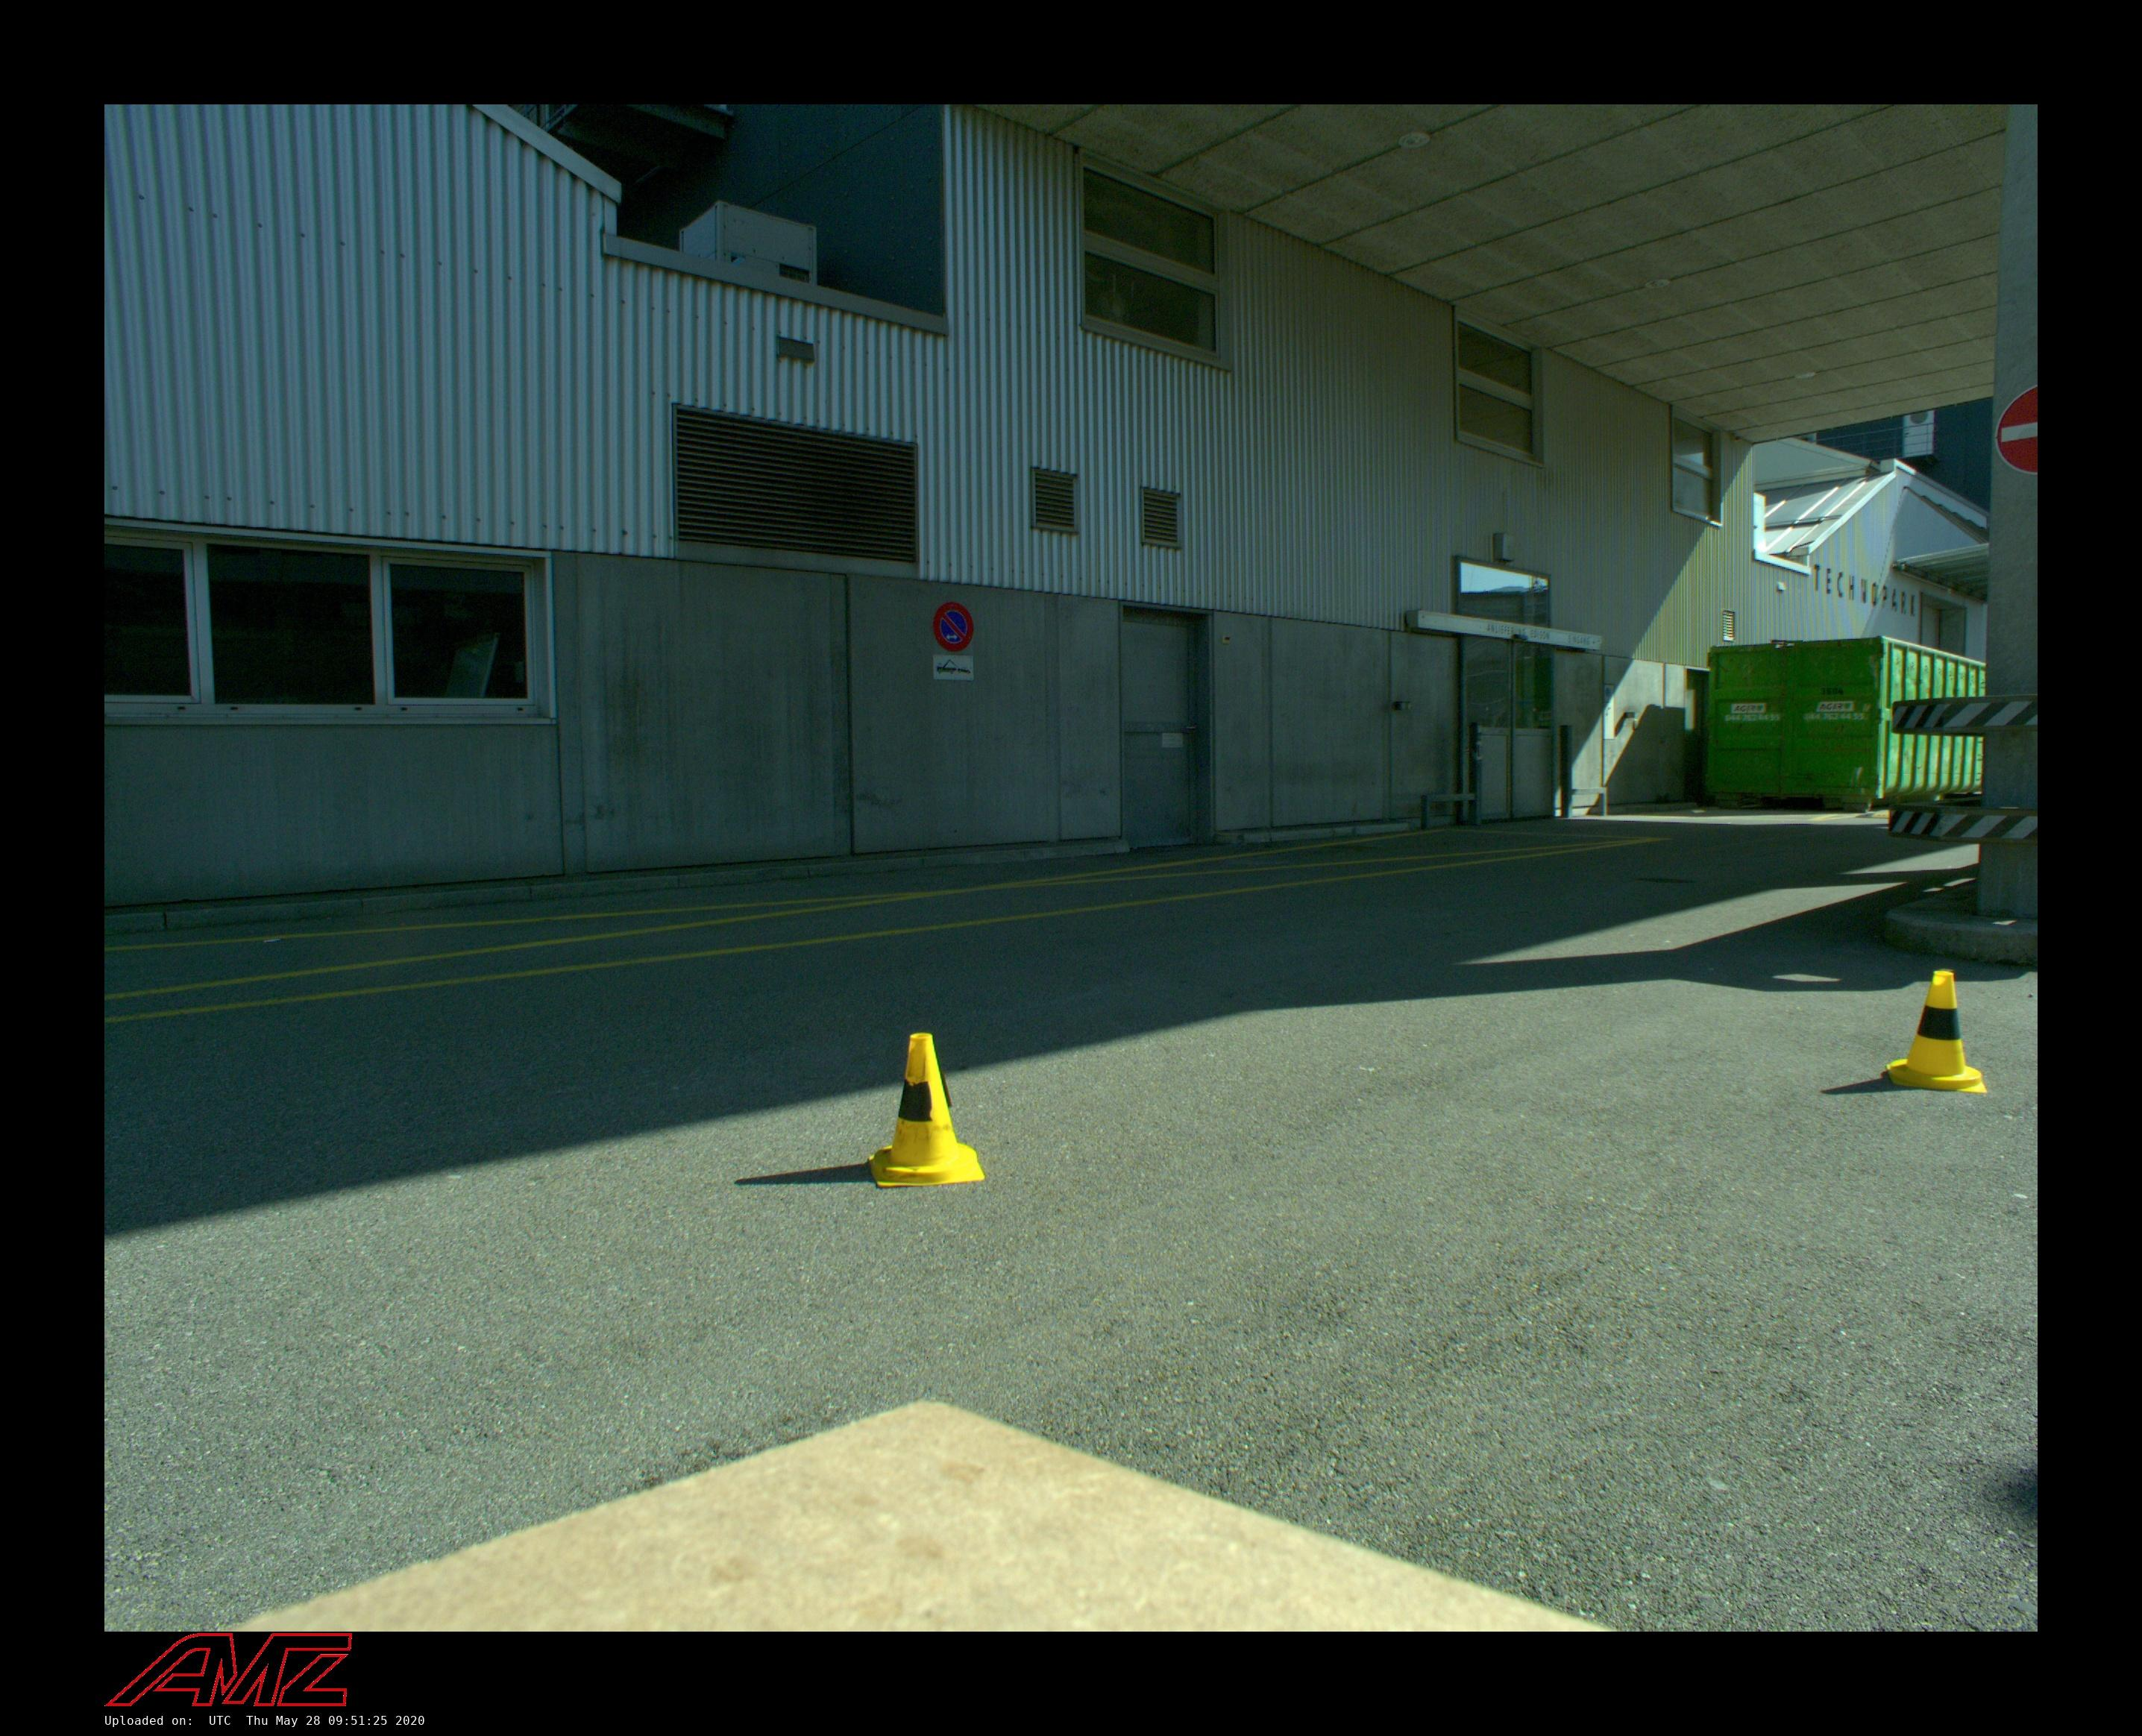yellow_cone: (868, 1033, 985, 1187), (1885, 971, 1986, 1095)
